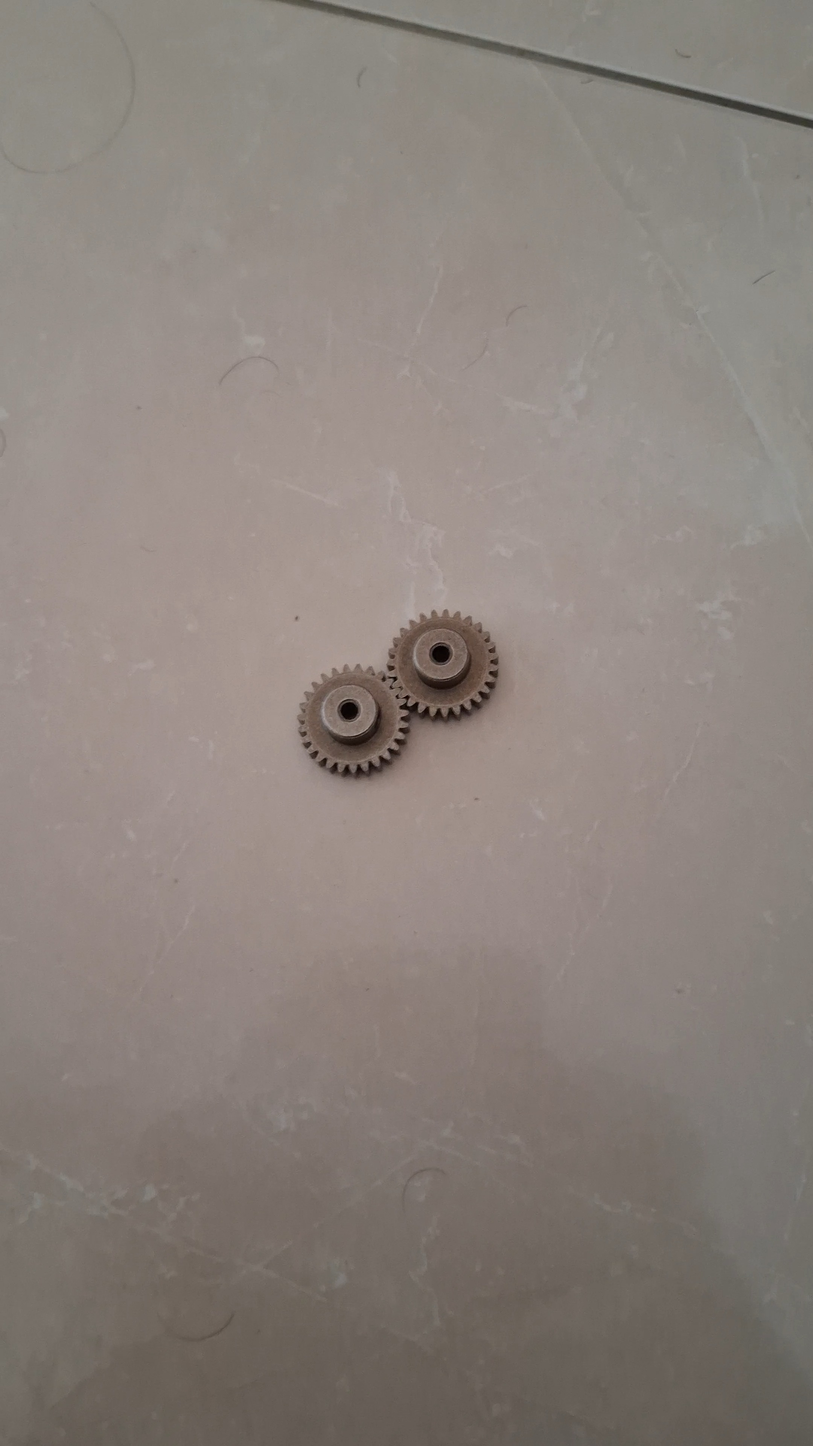spur gear: (275, 683, 382, 790), (361, 629, 467, 733)
